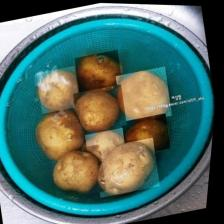Potato: (93, 135, 166, 198), (114, 64, 177, 125), (50, 142, 113, 201), (33, 104, 94, 164), (72, 82, 132, 135), (73, 48, 127, 97), (120, 111, 176, 157), (35, 65, 85, 114), (83, 126, 132, 168)
